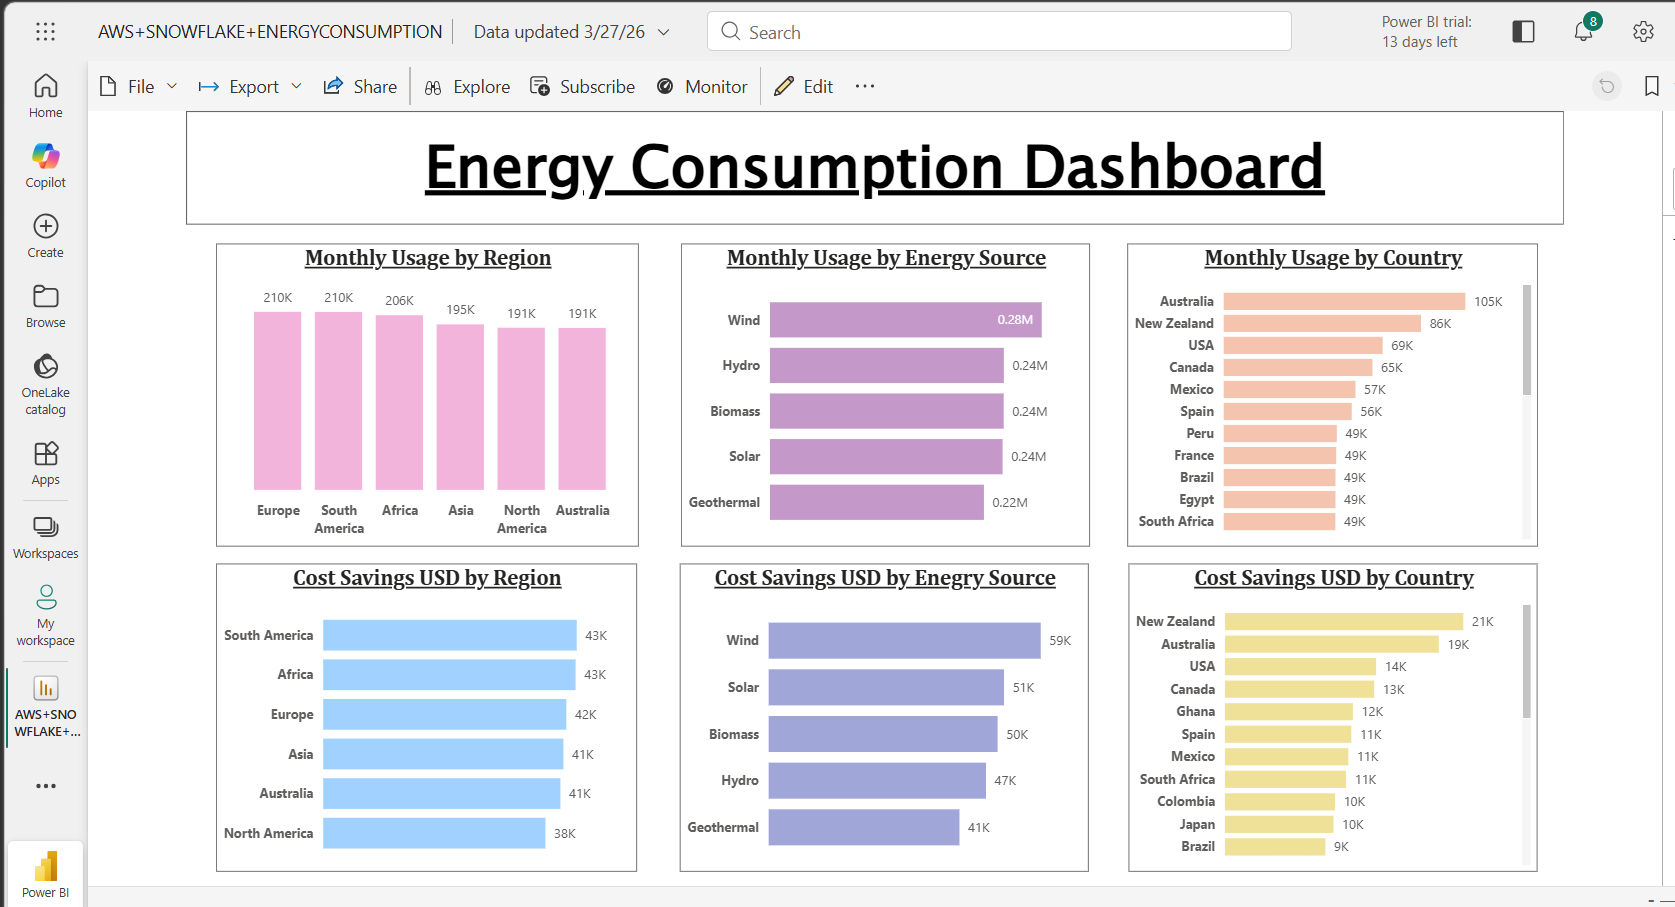

The dashboard page shown, as its layout file describes it:
{"tool":"powerbi","page":{"name":"Energy Consumption Dashboard","canvas":[1280,720],"ordinal":0},"visuals":[{"type":"columnChart","title":"Monthly Usage by Region","fields":{"Y":["Sum(ENERGY_CONSUMPTION.MONTHLY_USAGE_KWH)"],"Category":["ENERGY_CONSUMPTION.REGION"]},"box":[27.4,123.5,392.5,281.3],"z":0},{"type":"barChart","title":"Monthly Usage by Country","fields":{"Y":["Sum(ENERGY_CONSUMPTION.MONTHLY_USAGE_KWH)"],"Category":["ENERGY_CONSUMPTION.COUNTRY"]},"box":[874.1,123.5,381.5,281.3],"z":1},{"type":"barChart","title":"Monthly Usage by Energy Source","fields":{"Y":["Sum(ENERGY_CONSUMPTION.MONTHLY_USAGE_KWH)"],"Category":["ENERGY_CONSUMPTION.ENERGY_SOURCE"]},"box":[459.7,123.5,380.1,281.3],"z":2},{"type":"barChart","title":"Cost Savings USD by Region","fields":{"Y":["Sum(ENERGY_CONSUMPTION.COST_SAVINGS_USD)"],"Category":["ENERGY_CONSUMPTION.REGION"]},"box":[27.4,419.9,391.1,286.8],"z":3},{"type":"barChart","title":"Cost Savings USD by Country","fields":{"Y":["Sum(ENERGY_CONSUMPTION.COST_SAVINGS_USD)"],"Category":["ENERGY_CONSUMPTION.COUNTRY"]},"box":[875.5,419.9,380.1,286.8],"z":4},{"type":"barChart","title":"Cost Savings USD by Enegry Source","fields":{"Y":["Sum(ENERGY_CONSUMPTION.COST_SAVINGS_USD)"],"Category":["ENERGY_CONSUMPTION.ENERGY_SOURCE"]},"box":[458.3,419.9,380.1,286.8],"z":5},{"type":"shape","box":[0,0,1280.3,105.7],"z":6}]}

Visuals, with their boxes on the page's 1280x720 design canvas (x1, y1, x2, y2). These are canvas units, not pixel positions in the 1675x907 screenshot, which may show the page scaled, cropped or inside an application window:
"Monthly Usage by Region" columnChart: bbox(27, 124, 420, 405)
"Monthly Usage by Country" barChart: bbox(874, 124, 1256, 405)
"Monthly Usage by Energy Source" barChart: bbox(460, 124, 840, 405)
"Cost Savings USD by Region" barChart: bbox(27, 420, 418, 707)
"Cost Savings USD by Country" barChart: bbox(876, 420, 1256, 707)
"Cost Savings USD by Enegry Source" barChart: bbox(458, 420, 838, 707)
shape: bbox(0, 0, 1280, 106)
